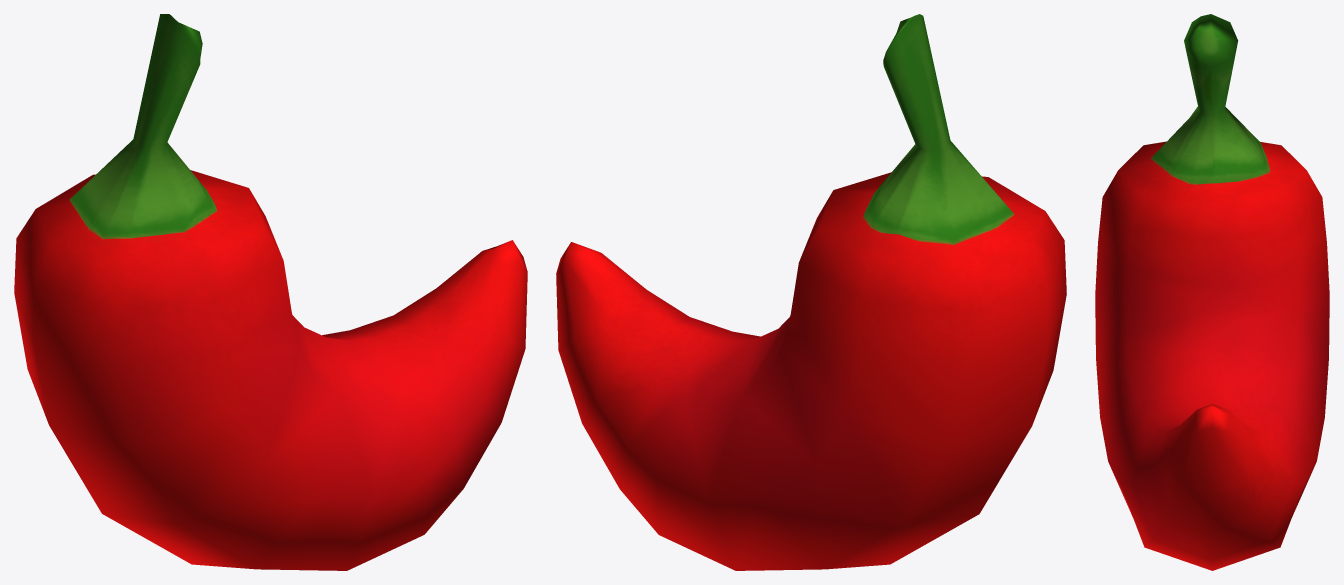
File: Pepper.fbx
The picture shows the model from 3 angles, left to right: view 1: azimuth 30°, elevation 25°; view 2: azimuth 150°, elevation 25°; view 3: azimuth 270°, elevation 25°; orthographic projection. The views are drawn at different scales.
Parts seen in each view (by area): view 1: Pepper; view 2: Pepper; view 3: Pepper.
Boxes of the visible parts, x1,y1,x2,y2 form: Pepper: (14, 14, 527, 570); Pepper: (556, 14, 1066, 570); Pepper: (1095, 14, 1329, 570).
Bounding box in the file's own units: 2.06 × 2.35 × 1.04.
